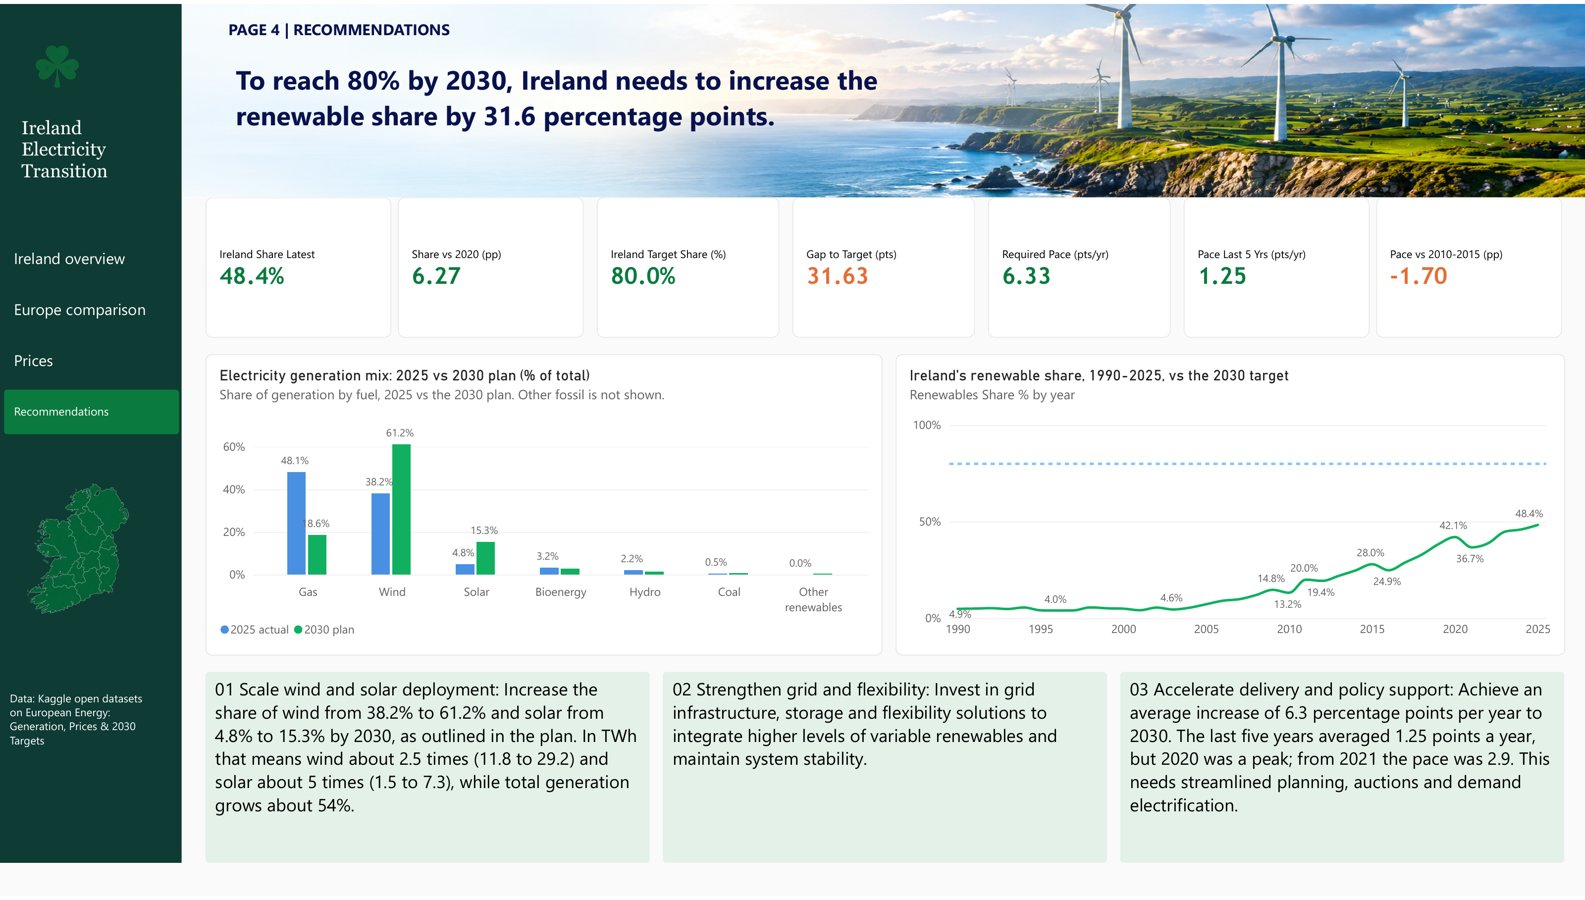

What the dashboard file says about the page in this screenshot:
{"tool":"powerbi","page":{"name":"Recommendations","canvas":[1920,1080],"ordinal":3},"visuals":[{"type":"clusteredColumnChart","title":"Electricity generation mix: 2025 vs 2030 plan (% of total)","fields":{"Category":["Ireland 2030 Fuel Shift.Fuel"],"Y":["Sum(Ireland 2030 Fuel Shift.Share 2025 (%))","Sum(Ireland 2030 Fuel Shift.Share 2030 Plan (%))"]},"box":[249,424,820,365],"z":0},{"type":"cardVisual","fields":{"Data":["Key Measures.Required Pace (pts/yr)"]},"box":[1197,234,221,170],"z":1000},{"type":"cardVisual","fields":{"Data":["Key Measures.Pace Last 5 Yrs (pts/yr)","Key Measures.Pace vs 2010-2015 (pp)"]},"box":[1434,234,458,170],"z":2000},{"type":"shape","box":[0,0,220,1040],"z":4000},{"type":"textbox","box":[20,520,180,140],"z":5000},{"type":"pageNavigator","box":[5,281,212,241],"z":6000},{"type":"actionButton","box":[14,131,171,121],"z":7000},{"type":"cardVisual","fields":{"Data":["Key Measures.Ireland Share Latest","Key Measures.Share vs 2020 (pp)"]},"box":[249,234,458,170],"z":8000},{"type":"cardVisual","fields":{"Data":["Key Measures.Ireland Target Share (%)"]},"box":[723,234,221,170],"z":9000},{"type":"cardVisual","fields":{"Data":["Key Measures.Gap to Target (pts)"]},"box":[960,234,221,170],"z":10000},{"type":"lineChart","title":"Ireland''s renewable share, 1990-2025, vs the 2030 target","fields":{"Category":["Years.year"],"Y":["Key Measures.Renewables Share %"]},"box":[1085,424,811,365],"z":11000},{"type":"actionButton","box":[249,809,538,231],"z":12000},{"type":"actionButton","box":[803,809,538,231],"z":13000},{"type":"actionButton","box":[1357,809,538,231],"z":14000},{"type":"image","box":[220.9,0,1699.1,233.6],"z":15000},{"type":"actionButton","box":[265,12,1100,35],"z":19000},{"type":"actionButton","box":[274.1,45.7,827.8,133.4],"z":20000},{"type":"image","box":[27.5,45.8,84.7,59.5],"z":21000},{"type":"image","box":[16,567.5,164.8,180.8],"z":22000},{"type":"actionButton","box":[0,825.5,197.9,102],"z":23000}]}

Visuals, with their boxes in screenshot pixels (x1, y1, x2, y2), scaled from the page's 1920x1080 canvas onto the 1585x900 screenshot:
"Electricity generation mix: 2025 vs 2030 plan (% of total)" clusteredColumnChart: <region>206, 353, 882, 658</region>
cardVisual - Key Measures.Required Pace (pts/yr): <region>988, 195, 1171, 337</region>
cardVisual - Key Measures.Pace Last 5 Yrs (pts/yr) x Key Measures.Pace vs 2010-2015 (pp): <region>1184, 195, 1562, 337</region>
shape: <region>0, 0, 182, 867</region>
textbox: <region>17, 433, 165, 550</region>
pageNavigator: <region>4, 234, 179, 435</region>
actionButton: <region>12, 109, 153, 210</region>
cardVisual - Key Measures.Ireland Share Latest x Key Measures.Share vs 2020 (pp): <region>206, 195, 584, 337</region>
cardVisual - Key Measures.Ireland Target Share (%): <region>597, 195, 779, 337</region>
cardVisual - Key Measures.Gap to Target (pts): <region>792, 195, 975, 337</region>
"Ireland''s renewable share, 1990-2025, vs the 2030 target" lineChart: <region>896, 353, 1565, 658</region>
actionButton: <region>206, 674, 650, 867</region>
actionButton: <region>663, 674, 1107, 867</region>
actionButton: <region>1120, 674, 1564, 867</region>
image: <region>182, 0, 1584, 195</region>
actionButton: <region>219, 10, 1127, 39</region>
actionButton: <region>226, 38, 910, 149</region>
image: <region>23, 38, 93, 88</region>
image: <region>13, 473, 149, 624</region>
actionButton: <region>0, 688, 163, 773</region>
